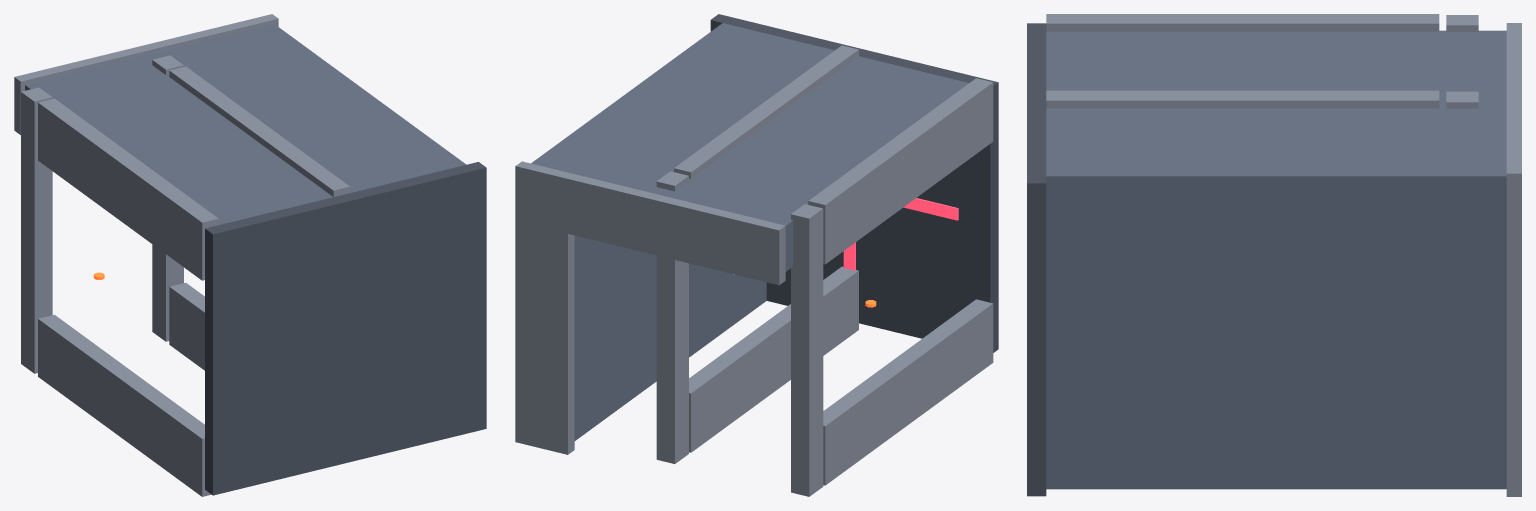
File: corridor_corner_3p946.glb
3 renders of one model, left to right at view 1: azimuth 30°, elevation 25°; view 2: azimuth 150°, elevation 25°; view 3: azimuth 270°, elevation 25°, orthographic. The views are drawn at different scales.
Visible parts, largest first — view 1: Floor.001, OuterWallZ, EndPillar.005, EndPillar.004, EndLintel.002, EndPillar.007, OuterCapZ, EndPillar.006, OuterWallX, EndLintel.003, OuterCapX; view 2: OuterWallZ, Floor.001, OuterWallX, OuterCapX, OuterCapZ, EndPillar.005, EndPillar.004, EndPillar.006, EndLintel.002, EndLintel.003, EndPillar.007, RuneX; view 3: OuterWallX, OuterWallZ, Floor.001, EndPillar.007, EndPillar.005, OuterCapX, OuterCapZ, EndLintel.003, EndLintel.002.
Part boxes in pixels (<box>): Floor.001: <box>205,162,486,495</box>; OuterWallZ: <box>25,24,465,224</box>; EndPillar.005: <box>38,98,218,280</box>; EndPillar.004: <box>38,314,211,496</box>; EndLintel.002: <box>21,87,52,373</box>; EndPillar.007: <box>169,66,350,196</box>; OuterCapZ: <box>14,14,278,134</box>; EndPillar.006: <box>169,283,204,370</box>; OuterWallX: <box>232,24,466,174</box>; EndLintel.003: <box>152,55,183,341</box>; OuterCapX: <box>221,14,278,35</box>; OuterWallZ: <box>531,23,968,271</box>; Floor.001: <box>710,14,998,352</box>; OuterWallX: <box>531,27,766,440</box>; OuterCapX: <box>515,161,574,454</box>; OuterCapZ: <box>515,161,785,285</box>; EndPillar.005: <box>808,78,993,264</box>; EndPillar.004: <box>823,299,993,485</box>; EndPillar.006: <box>689,266,858,452</box>; EndLintel.002: <box>791,204,823,496</box>; EndLintel.003: <box>656,171,688,463</box>; EndPillar.007: <box>674,45,858,178</box>; RuneX: <box>903,198,958,220</box>; OuterWallX: <box>1046,151,1506,489</box>; OuterWallZ: <box>1046,30,1506,226</box>; Floor.001: <box>1027,23,1046,496</box>; EndPillar.007: <box>1046,90,1439,108</box>; EndPillar.005: <box>1046,14,1439,31</box>; OuterCapX: <box>1506,143,1521,496</box>; OuterCapZ: <box>1506,23,1521,237</box>; EndLintel.003: <box>1446,91,1478,108</box>; EndLintel.002: <box>1446,15,1478,31</box>.
Size of the model in its own units: 4 by 3.78 by 5.16.
